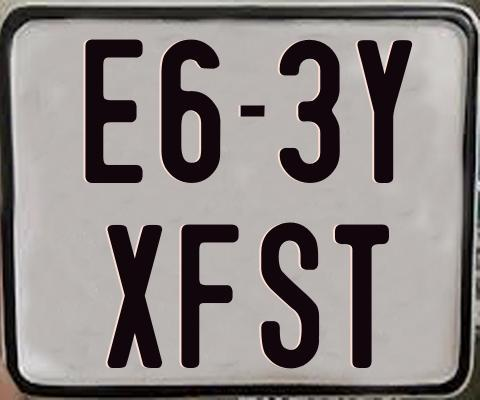3: (278, 40, 339, 188)
6: (161, 37, 224, 186)
E: (83, 38, 144, 186)
F: (178, 224, 236, 373)
S: (258, 221, 316, 371)
T: (333, 221, 388, 368)
X: (107, 224, 168, 372)
Y: (355, 37, 411, 184)
